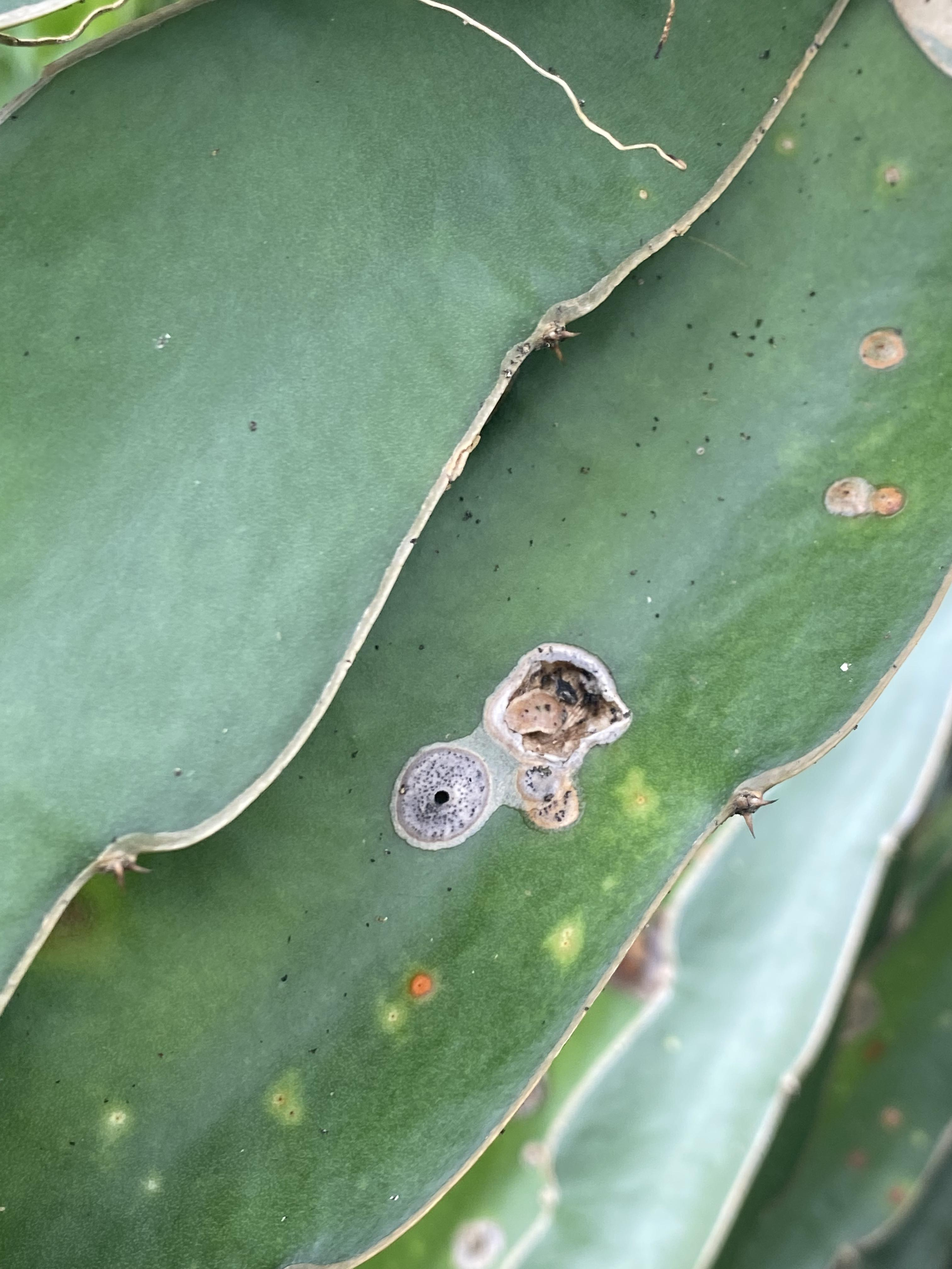stemcanker: (387, 637, 638, 854), (819, 470, 910, 524), (853, 323, 915, 376)
